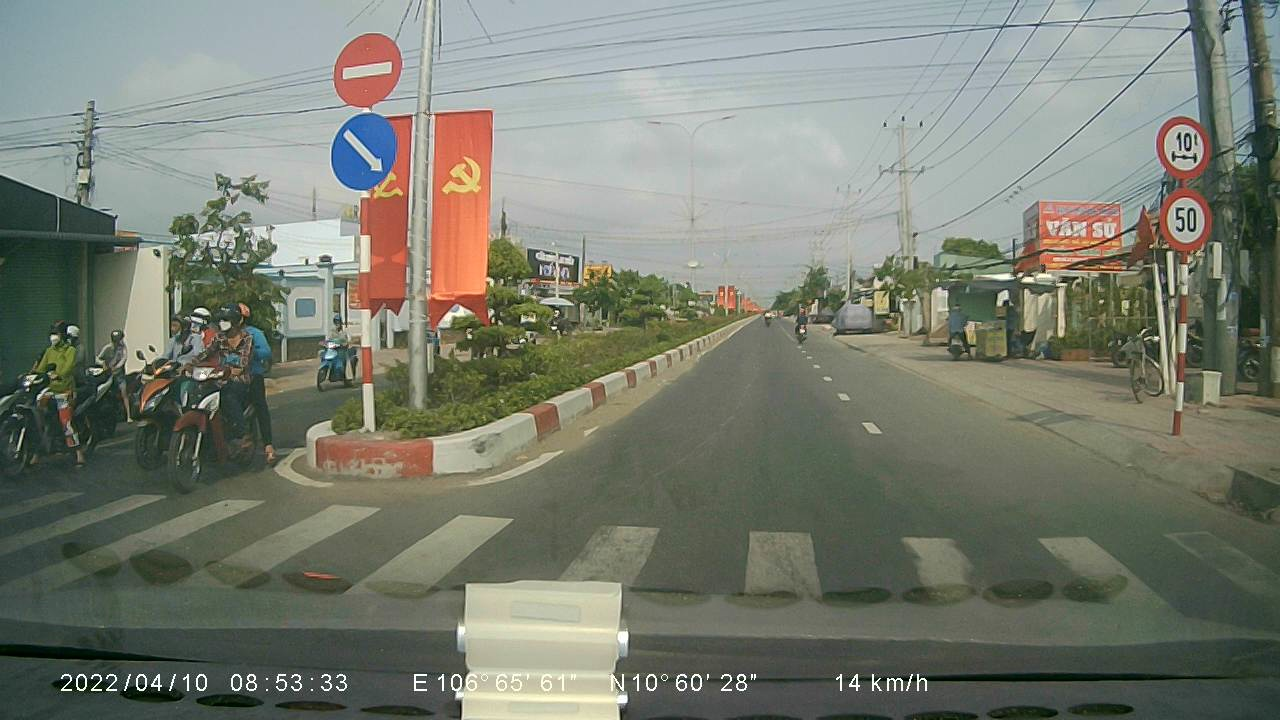Bien khac: (1156, 185, 1217, 253), (1154, 112, 1210, 177)
Cam di nguoc chieu: (330, 28, 404, 108)
Huong di phai re phai: (327, 111, 396, 190)
